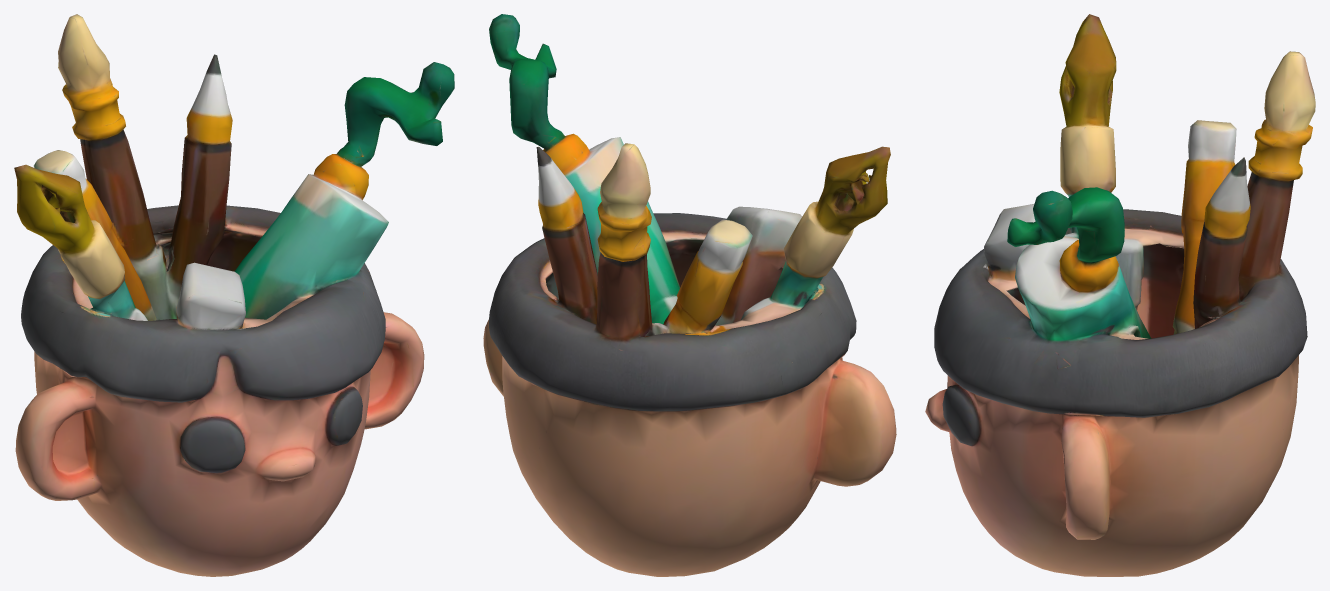
Rendered from branding-hero.glb.
3 views of the same model, side by side, from view 1: azimuth 30°, elevation 25°; view 2: azimuth 150°, elevation 25°; view 3: azimuth 270°, elevation 25° (orthographic).
Parts seen in each view (by area): view 1: Mesh1.0; view 2: Mesh1.0; view 3: Mesh1.0.
Boxes of the visible parts, left/top/right/bottom form: Mesh1.0: left=14, top=14, right=454, bottom=576; Mesh1.0: left=483, top=14, right=896, bottom=576; Mesh1.0: left=925, top=14, right=1315, bottom=576.
Bounding box in the file's own units: 1.81 × 2 × 1.45.
1 material, 1 textured.
